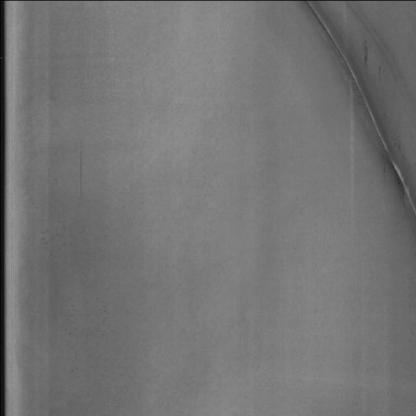crease: (288, 10, 412, 281)
